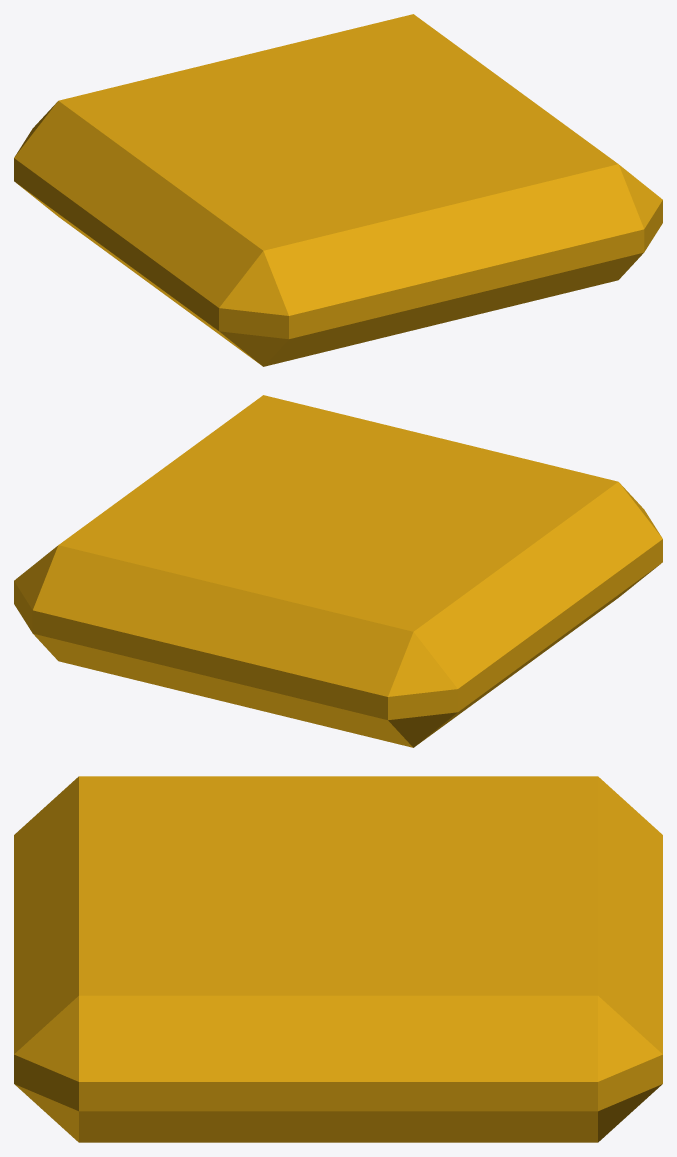
Rendered from StickyNotes.fbx.
The picture shows the model from 3 angles, top to bottom: view 1: azimuth 30°, elevation 25°; view 2: azimuth 150°, elevation 25°; view 3: azimuth 270°, elevation 25°; orthographic projection. The views are drawn at different scales.
Parts seen in each view (by area): view 1: StickyNotes; view 2: StickyNotes; view 3: StickyNotes.
Boxes of the visible parts, box(x1,y1,x2,y2) form: StickyNotes: box(14, 14, 662, 366); StickyNotes: box(14, 395, 662, 747); StickyNotes: box(14, 776, 662, 1142).
Size of the model in its own units: 8 by 2 by 8.
1 material, 1 textured.
